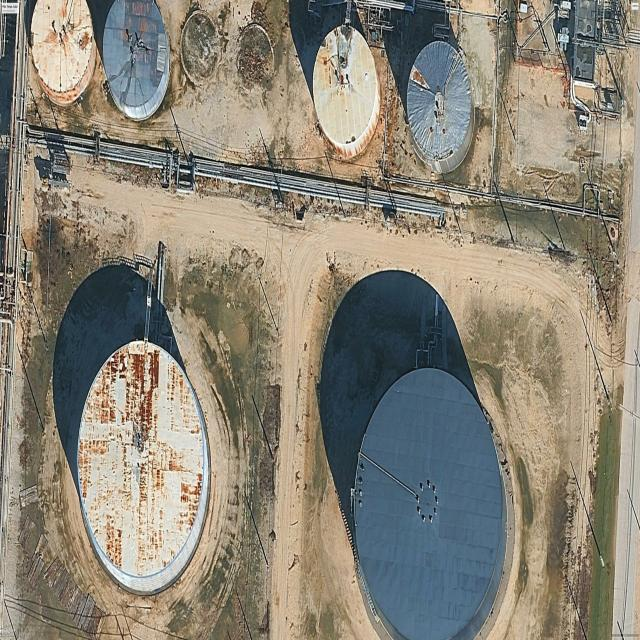Oil Rafinery: (352, 368, 507, 640), (72, 340, 210, 594), (406, 41, 475, 173), (313, 23, 380, 157), (103, 0, 169, 120), (30, 0, 97, 106)
